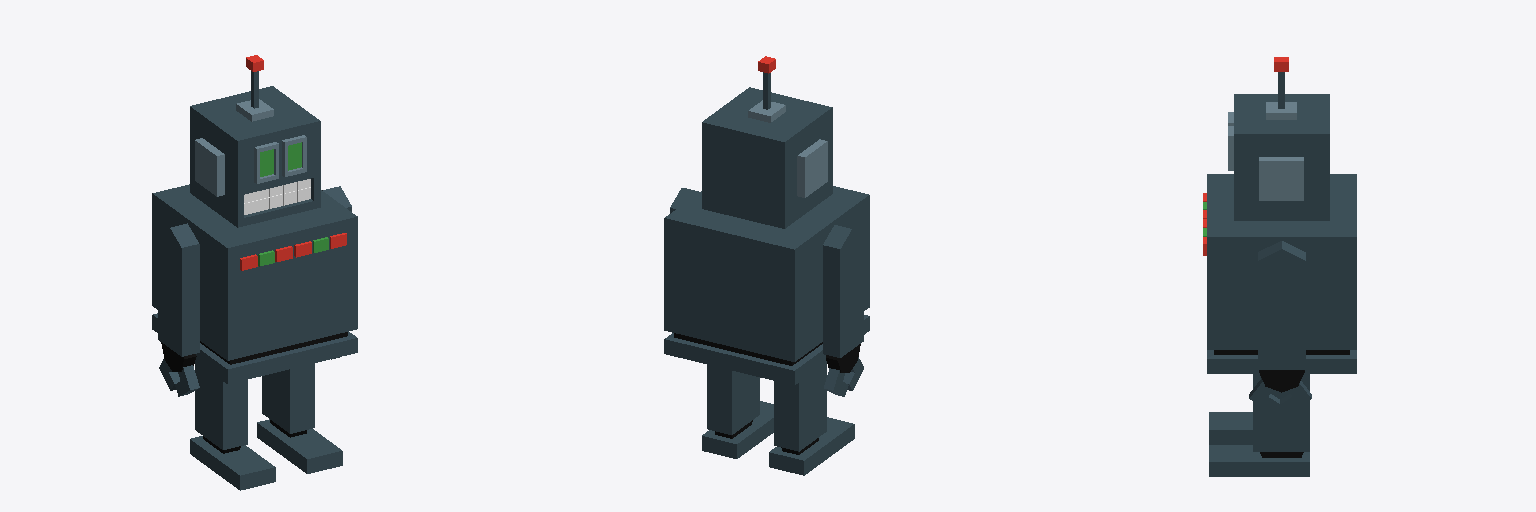
Rendered from Robot_01.obj.
3 renders of one model, left to right at view 1: azimuth 30°, elevation 25°; view 2: azimuth 150°, elevation 25°; view 3: azimuth 270°, elevation 25°, orthographic.
Parts seen in each view (by area): view 1: Robot_01_Cube.030; view 2: Robot_01_Cube.030; view 3: Robot_01_Cube.030.
Boxes of the visible parts, box(x1,y1,x2,y2) form: Robot_01_Cube.030: box(152, 55, 357, 490); Robot_01_Cube.030: box(664, 56, 869, 475); Robot_01_Cube.030: box(1203, 57, 1356, 476).
Bounding box in the file's own units: 13.1 × 28.84 × 10.24.